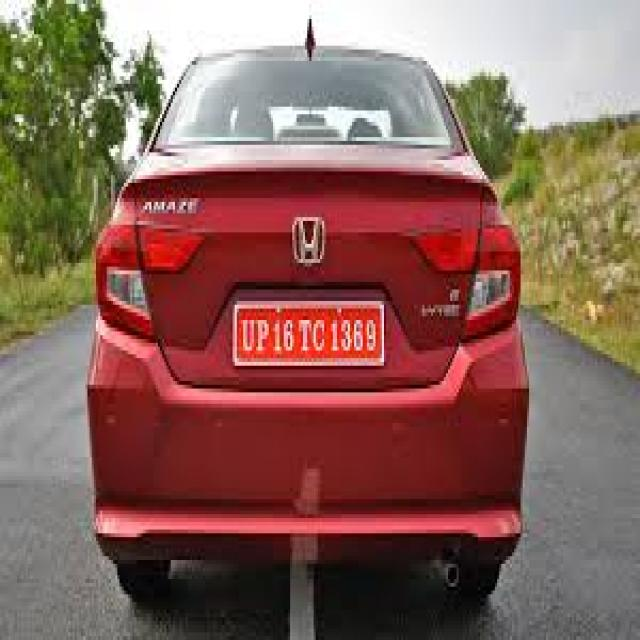Number-Plate: (234, 308, 384, 360)
